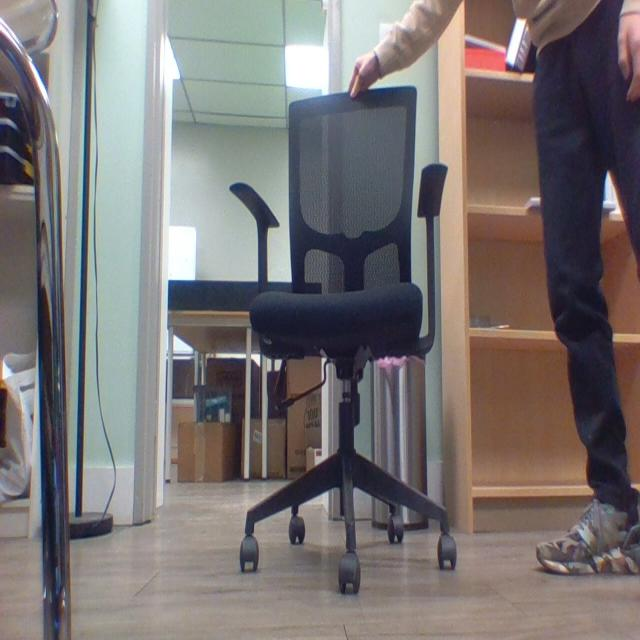black-chair: (222, 76, 461, 604)
